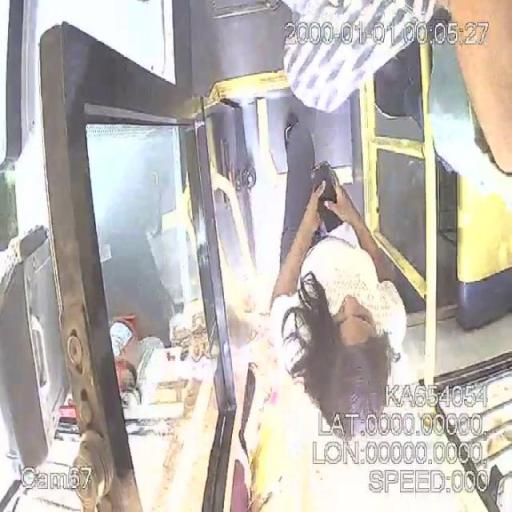persona: (267, 122, 409, 440)
